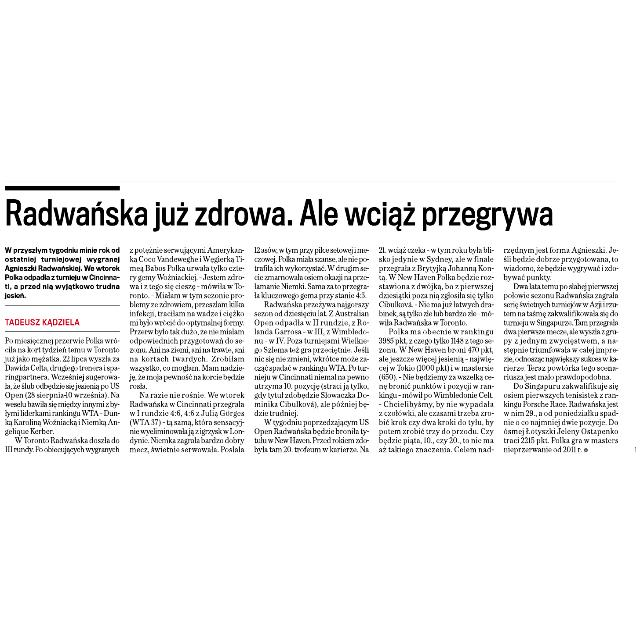author: (3, 313, 86, 329)
body: (501, 242, 625, 456), (251, 240, 373, 456), (378, 242, 498, 456), (127, 242, 247, 454), (2, 334, 124, 456)
lead: (3, 242, 122, 302)
title: (5, 193, 571, 235)
